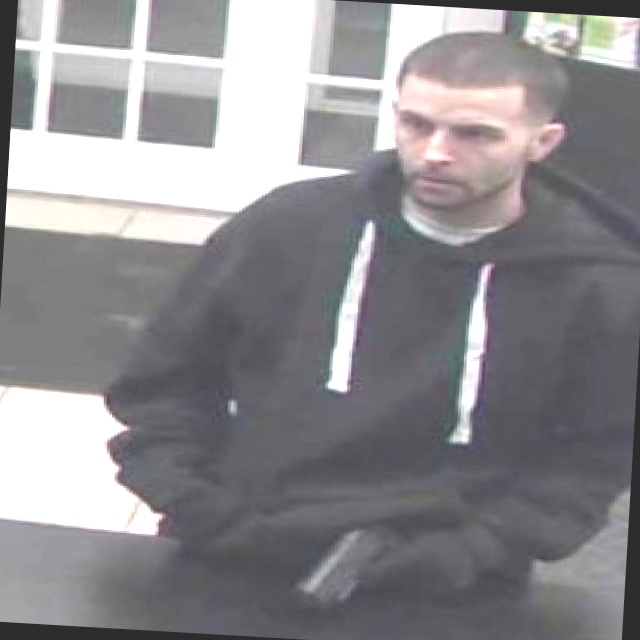gun: (275, 506, 440, 626)
